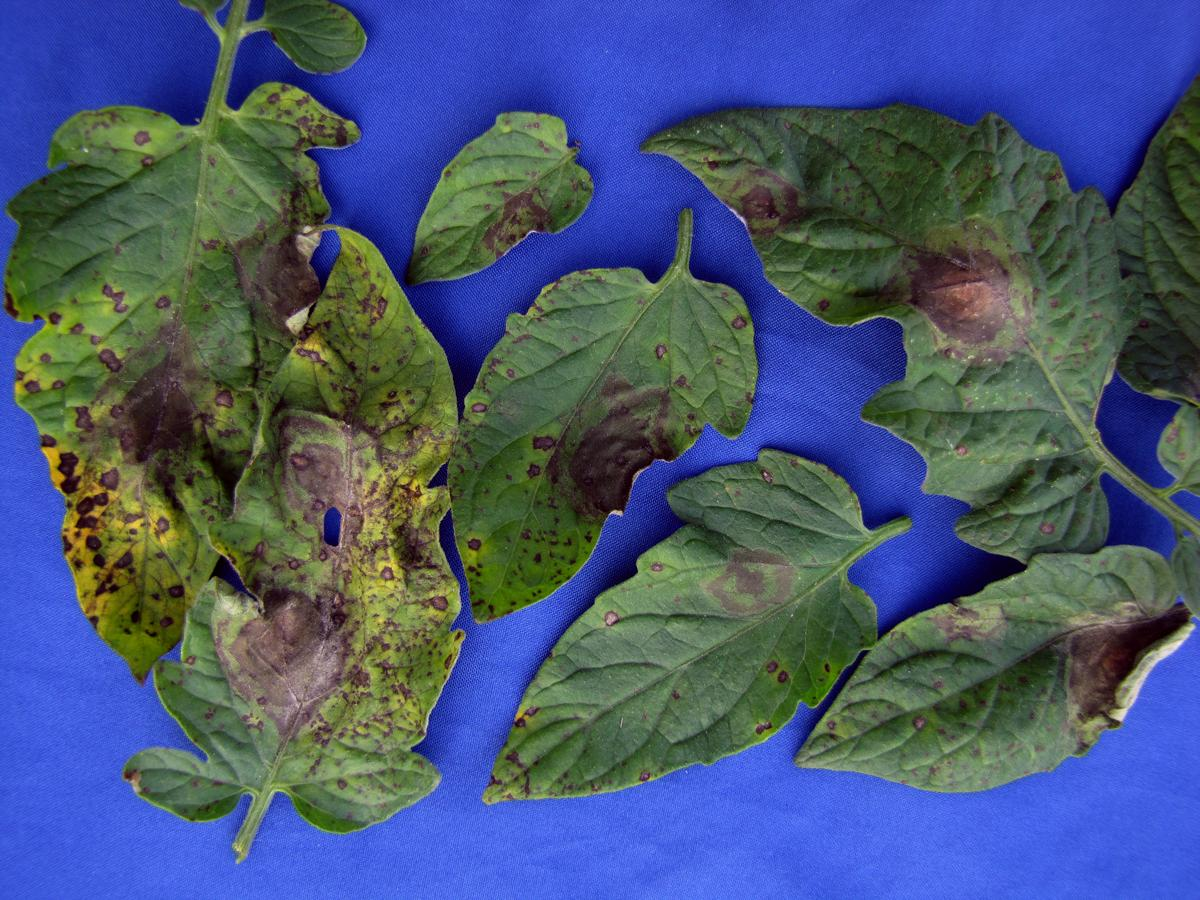Tomato leaf late blight: (629, 66, 1164, 545), (12, 61, 389, 709), (152, 220, 472, 880), (440, 223, 771, 650), (478, 465, 886, 809), (788, 565, 1190, 786)
